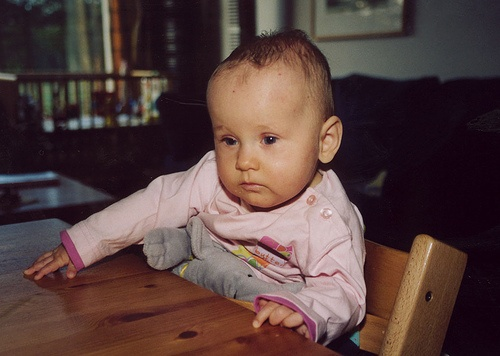head: (205, 26, 344, 212)
person: (23, 22, 368, 344)
